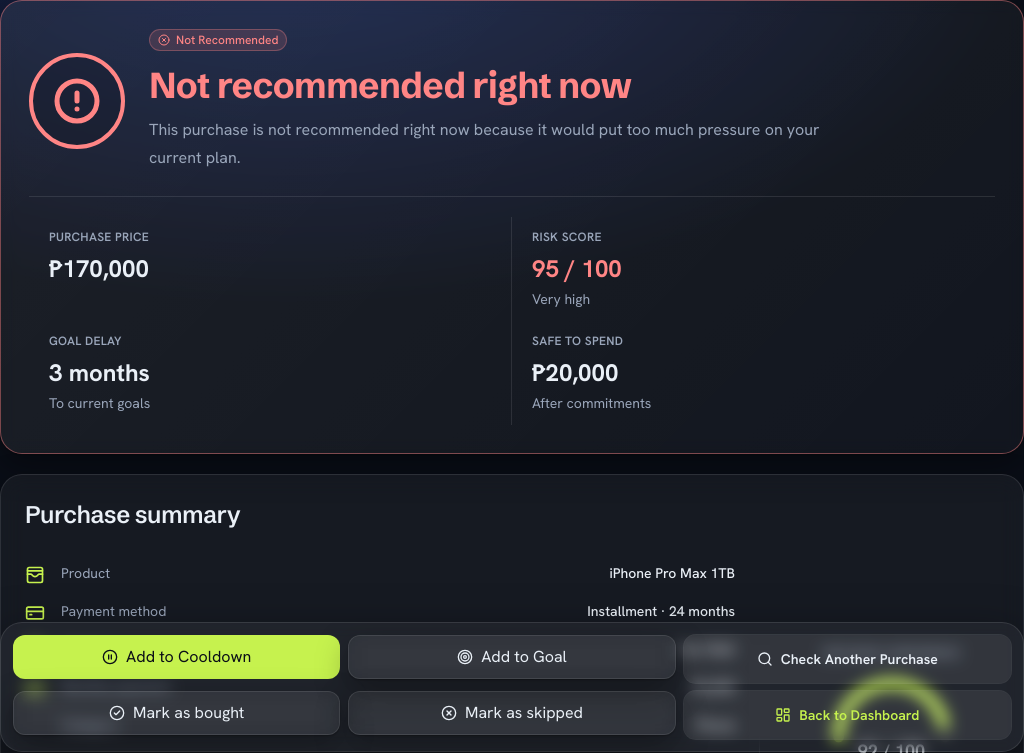
PurchaseResult › shows retryable feedback when marking a check status fails
This screenshot has width=1024, height=753.
Click the button "Mark as skipped": (512, 713) [348,691,676,735]
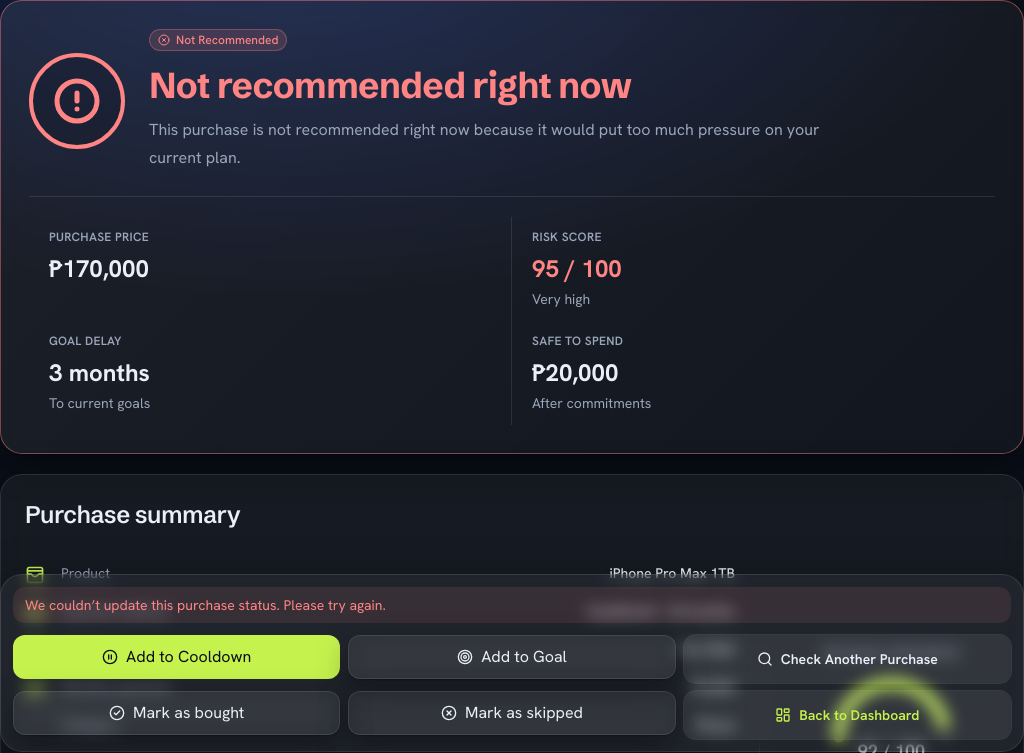
Now the message reads "We couldn’t update this purchase status. Please try again.", box [25,596,386,614]
Click the button "Mark as skipped": (512, 713) [348,691,676,735]
(page scrolled)
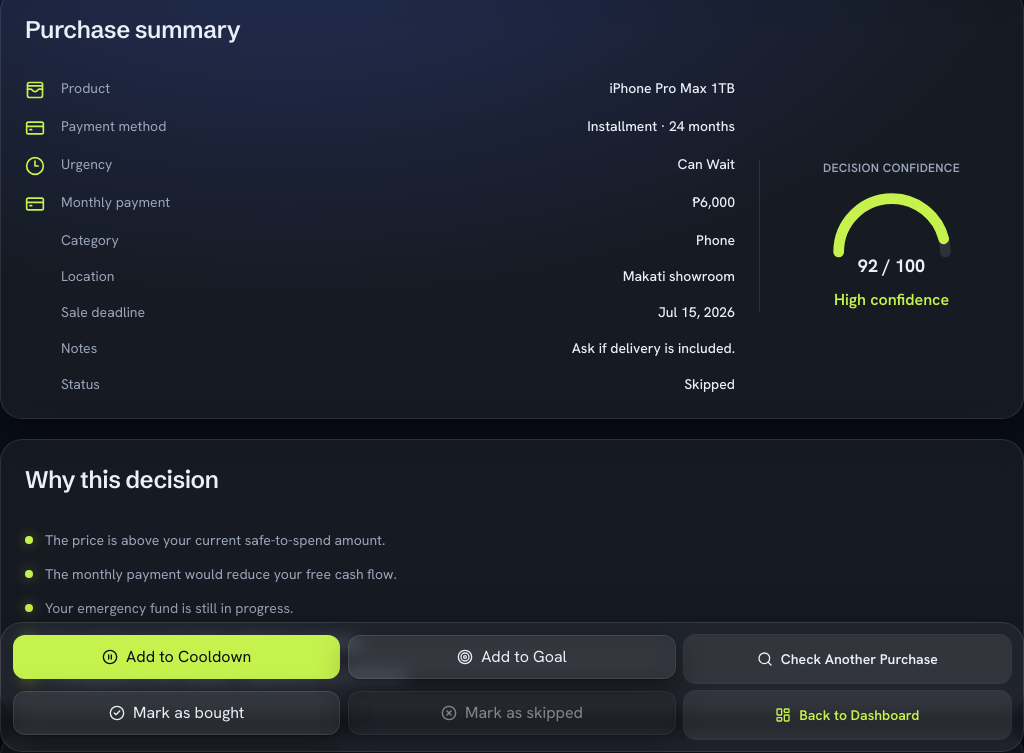
Now the text "Skipped" is shown, box [684,375,735,393]
